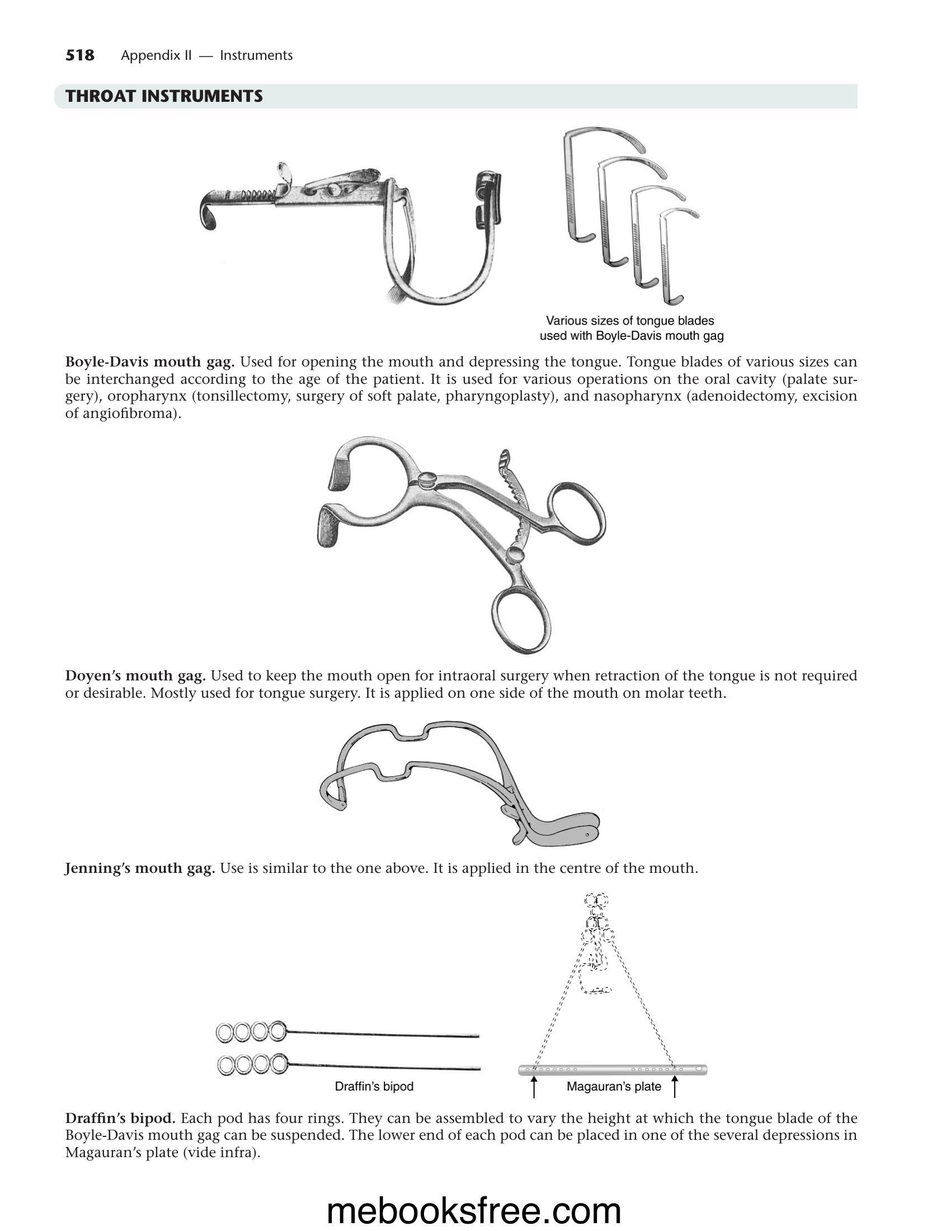header: (120, 48, 295, 64)
image: (125, 114, 802, 349), (165, 884, 806, 1104), (254, 426, 675, 662), (314, 715, 609, 853)
section-heading: (63, 87, 265, 104)
text: (64, 354, 860, 423), (63, 1109, 859, 1163), (63, 668, 859, 706), (62, 860, 700, 879)
